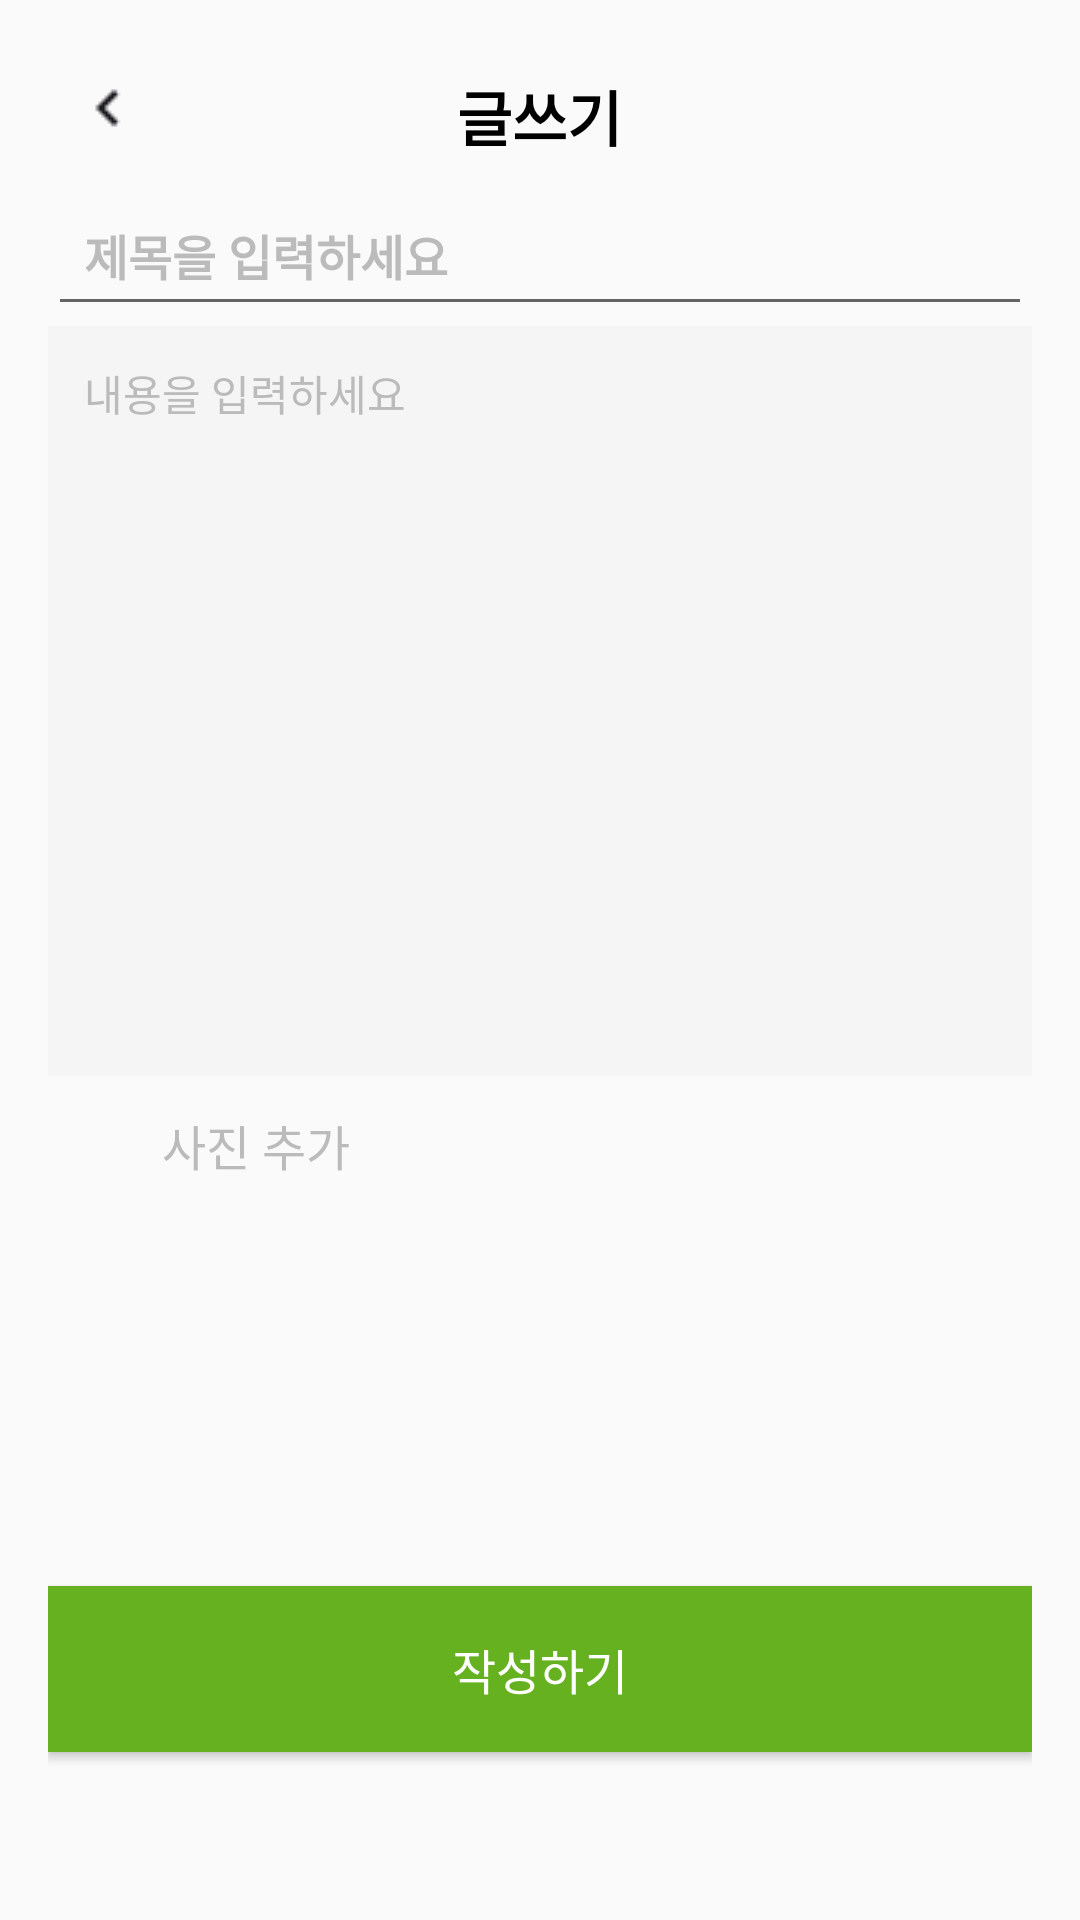

Screen size 1080px x 1920px. Icon name, then its box in pixels as [x1,y1,x2,y2]:
Back Button: [95,89,120,127]
